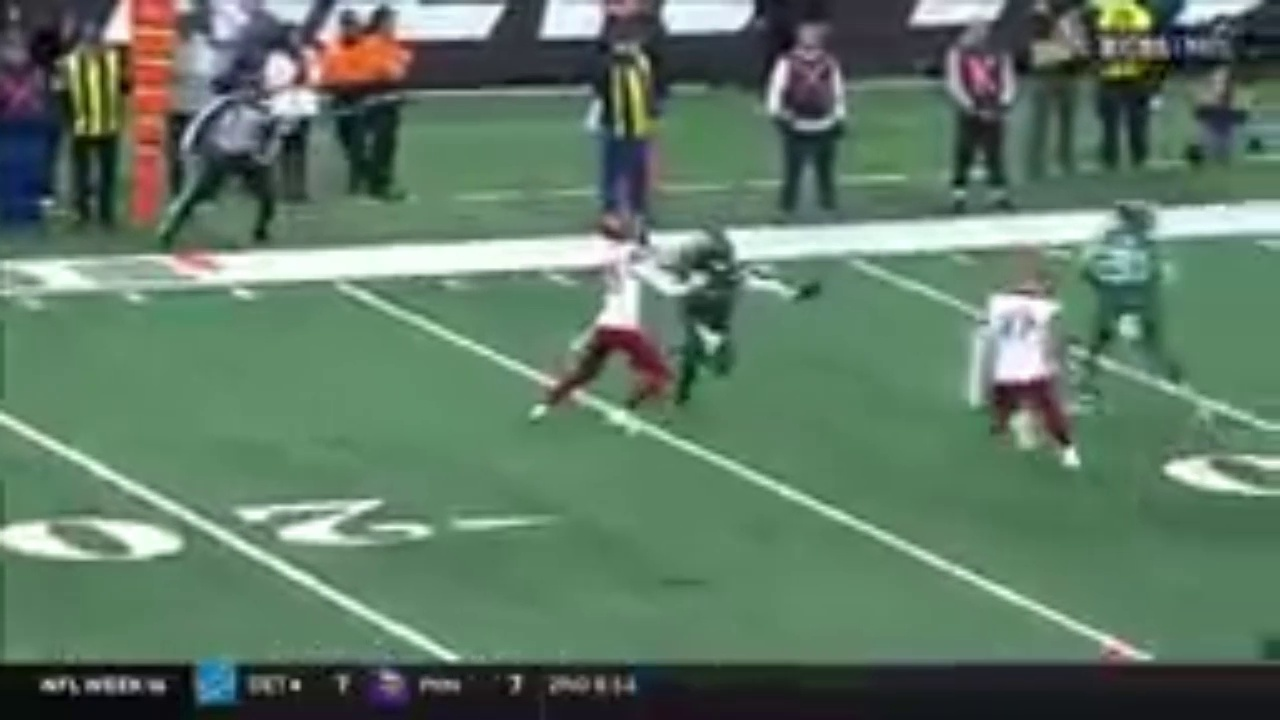interference: (620, 242, 737, 301)
